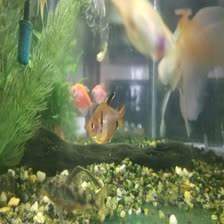Cuezo: (148, 6, 223, 136)
Kiros: (34, 169, 121, 212)
Transparente: (85, 92, 138, 138)
